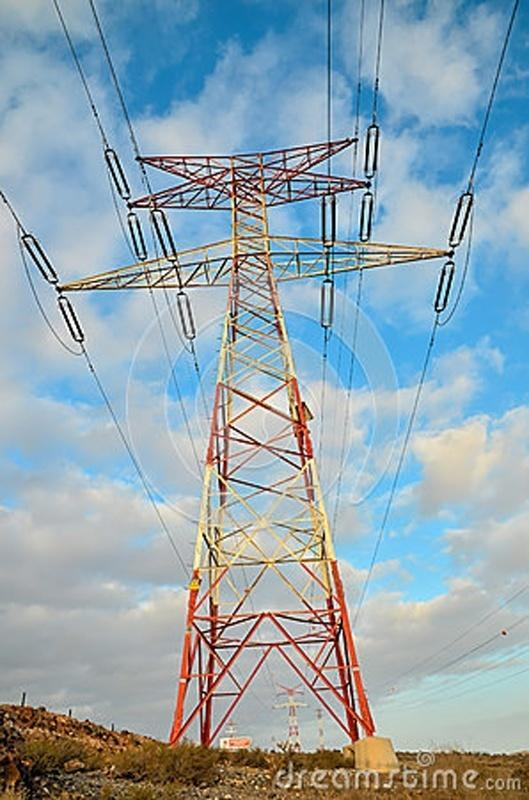power_tower: (13, 118, 475, 758), (270, 670, 311, 753), (308, 706, 334, 752), (217, 711, 243, 738)
